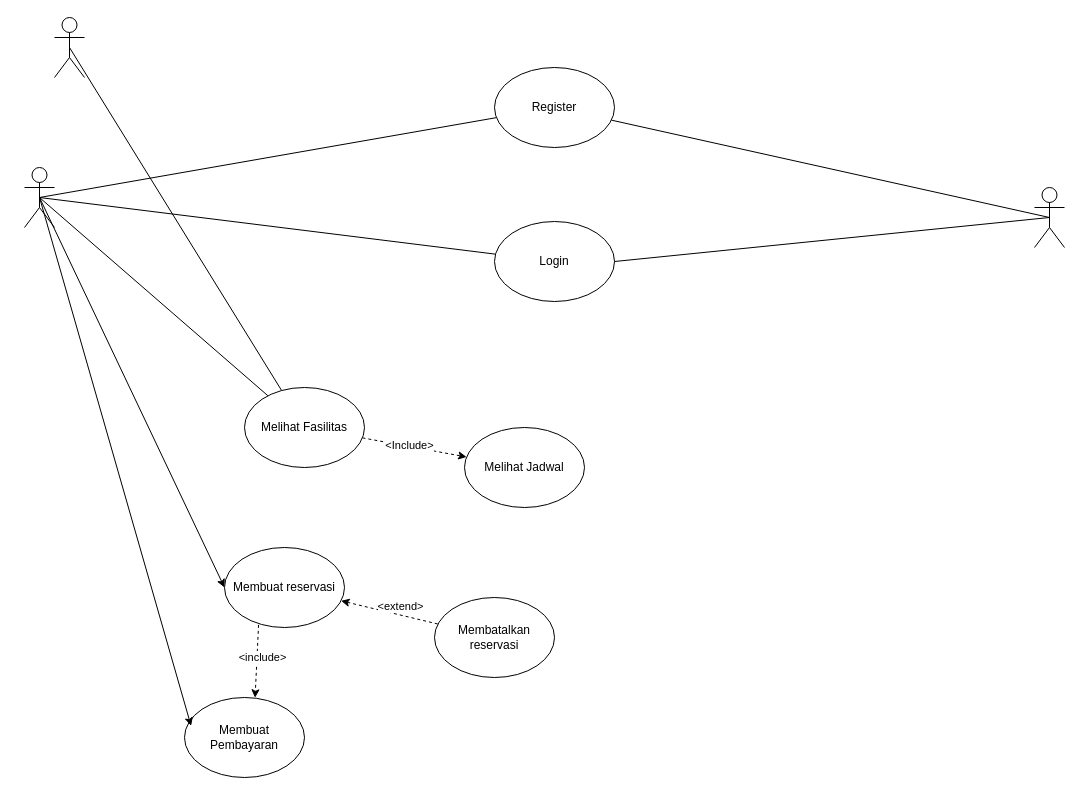
Some shapes in this 1083 by 795 pixel diagram are drawn without their labels. Each missing label, with the centre of its shape:
"Admin" goes at (x=1049, y=217).
"Guest" goes at (x=69, y=47).
"Member" goes at (x=39, y=197).
